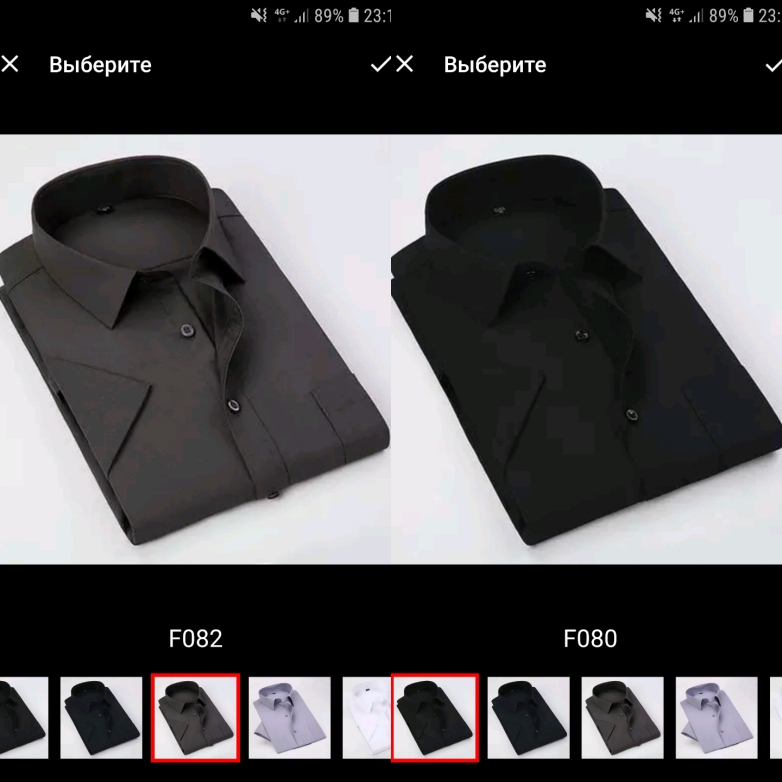shirts: (404, 164, 782, 541), (21, 164, 379, 542)
